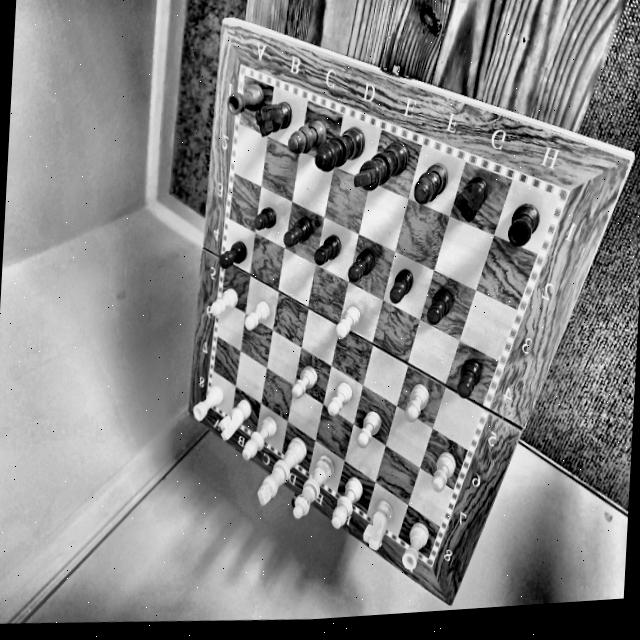black-bishop: (410, 159, 452, 210), (284, 114, 329, 159)
black-king: (352, 136, 412, 199)
black-knight: (450, 172, 496, 227), (250, 96, 296, 141)
black-pawn: (424, 281, 460, 329), (310, 229, 346, 272), (454, 355, 484, 404), (386, 262, 416, 307), (347, 242, 378, 285), (280, 214, 314, 252), (218, 238, 252, 272), (252, 202, 282, 235)
black-queen: (312, 122, 368, 179)
black-rook: (503, 196, 546, 252), (223, 78, 264, 120)
white-bishop: (331, 473, 365, 531), (240, 415, 278, 464)
white-king: (254, 434, 308, 511)
white-knight: (360, 498, 397, 552), (218, 396, 254, 442)
white-pawn: (208, 281, 242, 326), (403, 380, 435, 426), (428, 448, 458, 495), (242, 295, 276, 336), (334, 300, 366, 342), (288, 361, 320, 401), (356, 408, 384, 451), (325, 379, 355, 418)
white-queen: (292, 453, 336, 524)
white-rook: (400, 517, 434, 573), (190, 383, 226, 425)
